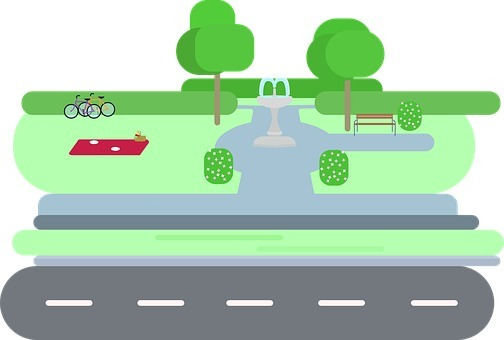bicycle: (79, 88, 119, 117), (62, 94, 101, 119)
chair: (349, 107, 399, 136)
